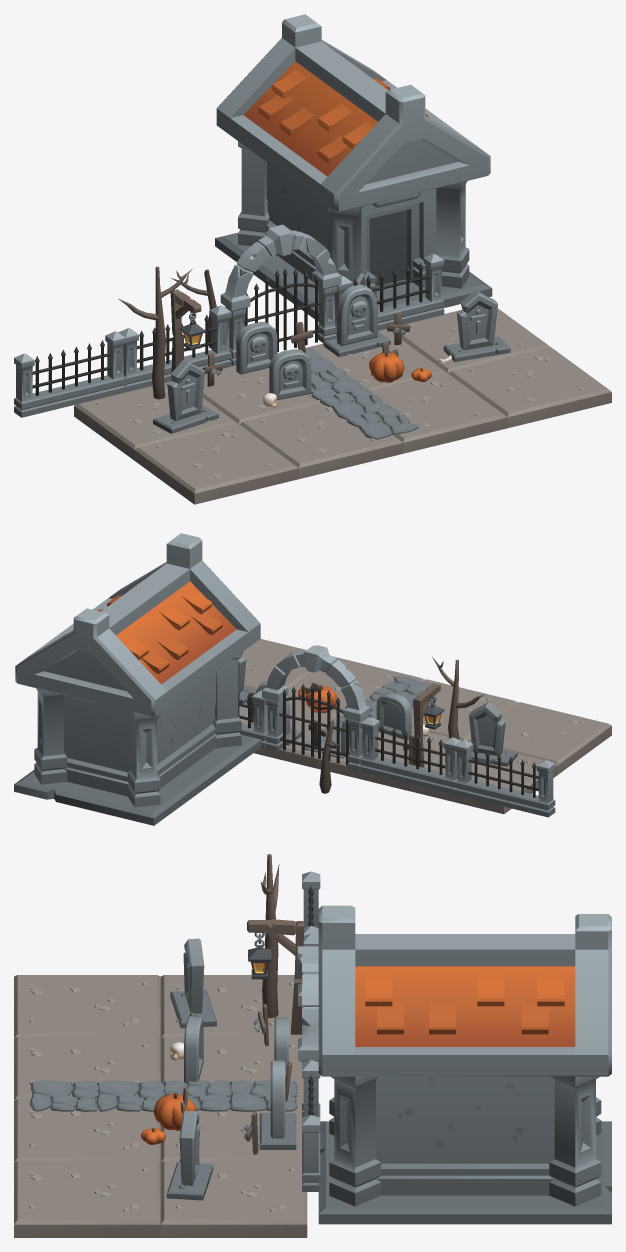
The model's file is graveyard.glb.
3 renders of one model, top to bottom at view 1: azimuth 30°, elevation 25°; view 2: azimuth 150°, elevation 25°; view 3: azimuth 270°, elevation 25°, orthographic. The views are drawn at different scales.
Parts seen in each view (by area): view 1: static; view 2: static; view 3: static.
Part boxes in pixels (x1,y1,x2,y2): static: (14,14,611,504); static: (14,533,611,825); static: (14,854,611,1237).
Size of the model in its own units: 18.3 by 8.5 by 16.3.
Materials: 1 (1 with a texture image).
